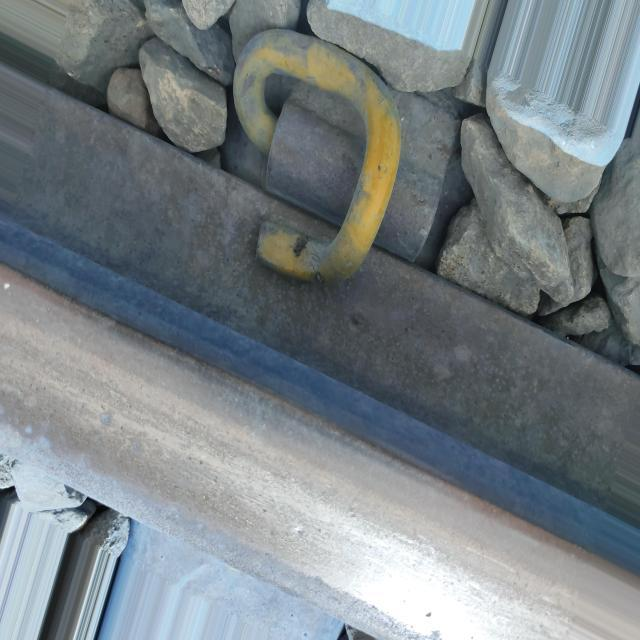Good Fasteners: (185, 7, 464, 335)
